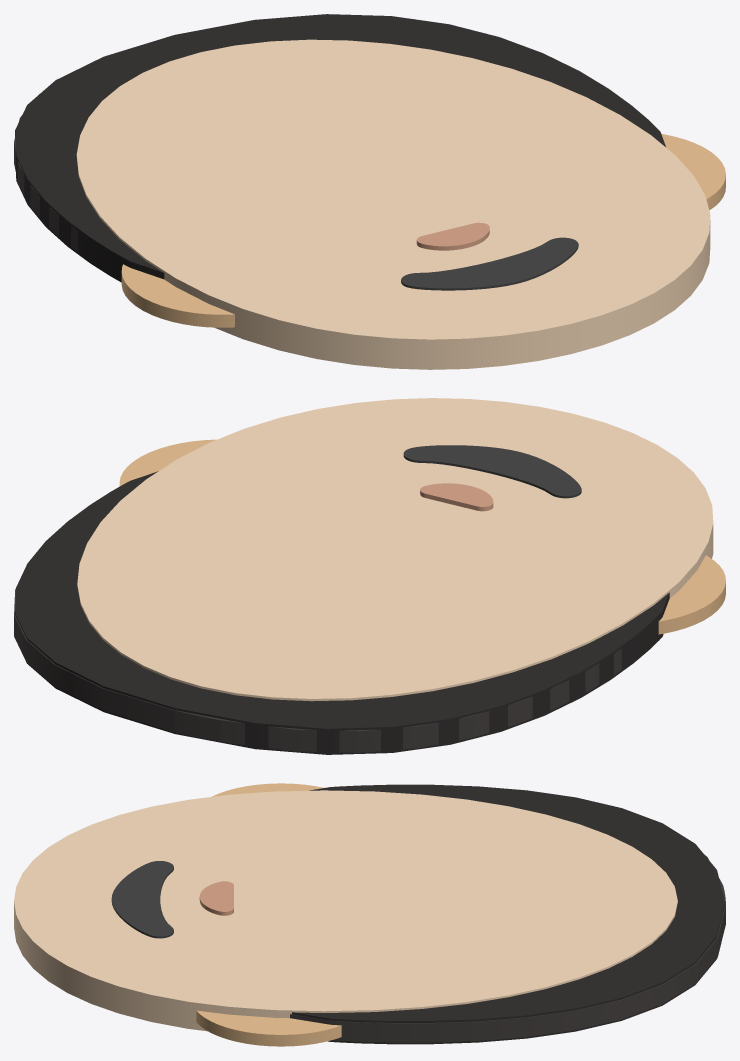
Rendered from emoji_u1f468_1f3fb.glb.
3 views of the same model, one above another, from view 1: azimuth 30°, elevation 25°; view 2: azimuth 150°, elevation 25°; view 3: azimuth 270°, elevation 25° (orthographic). The views are drawn at different scales.
Visible parts, largest first — view 1: emoji_u1f468_1f3fb; view 2: emoji_u1f468_1f3fb; view 3: emoji_u1f468_1f3fb.
Part boxes in pixels (bbox=[...]): emoji_u1f468_1f3fb: bbox=[14, 14, 725, 369]; emoji_u1f468_1f3fb: bbox=[14, 398, 725, 754]; emoji_u1f468_1f3fb: bbox=[14, 783, 725, 1046].
Bounding box in the file's own units: 0.0279 × 0.0018 × 0.0333.
